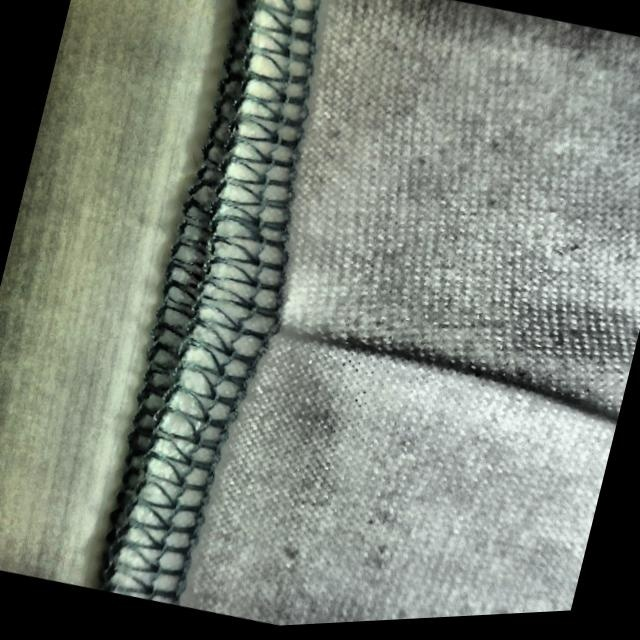seam: (170, 213, 527, 454)
